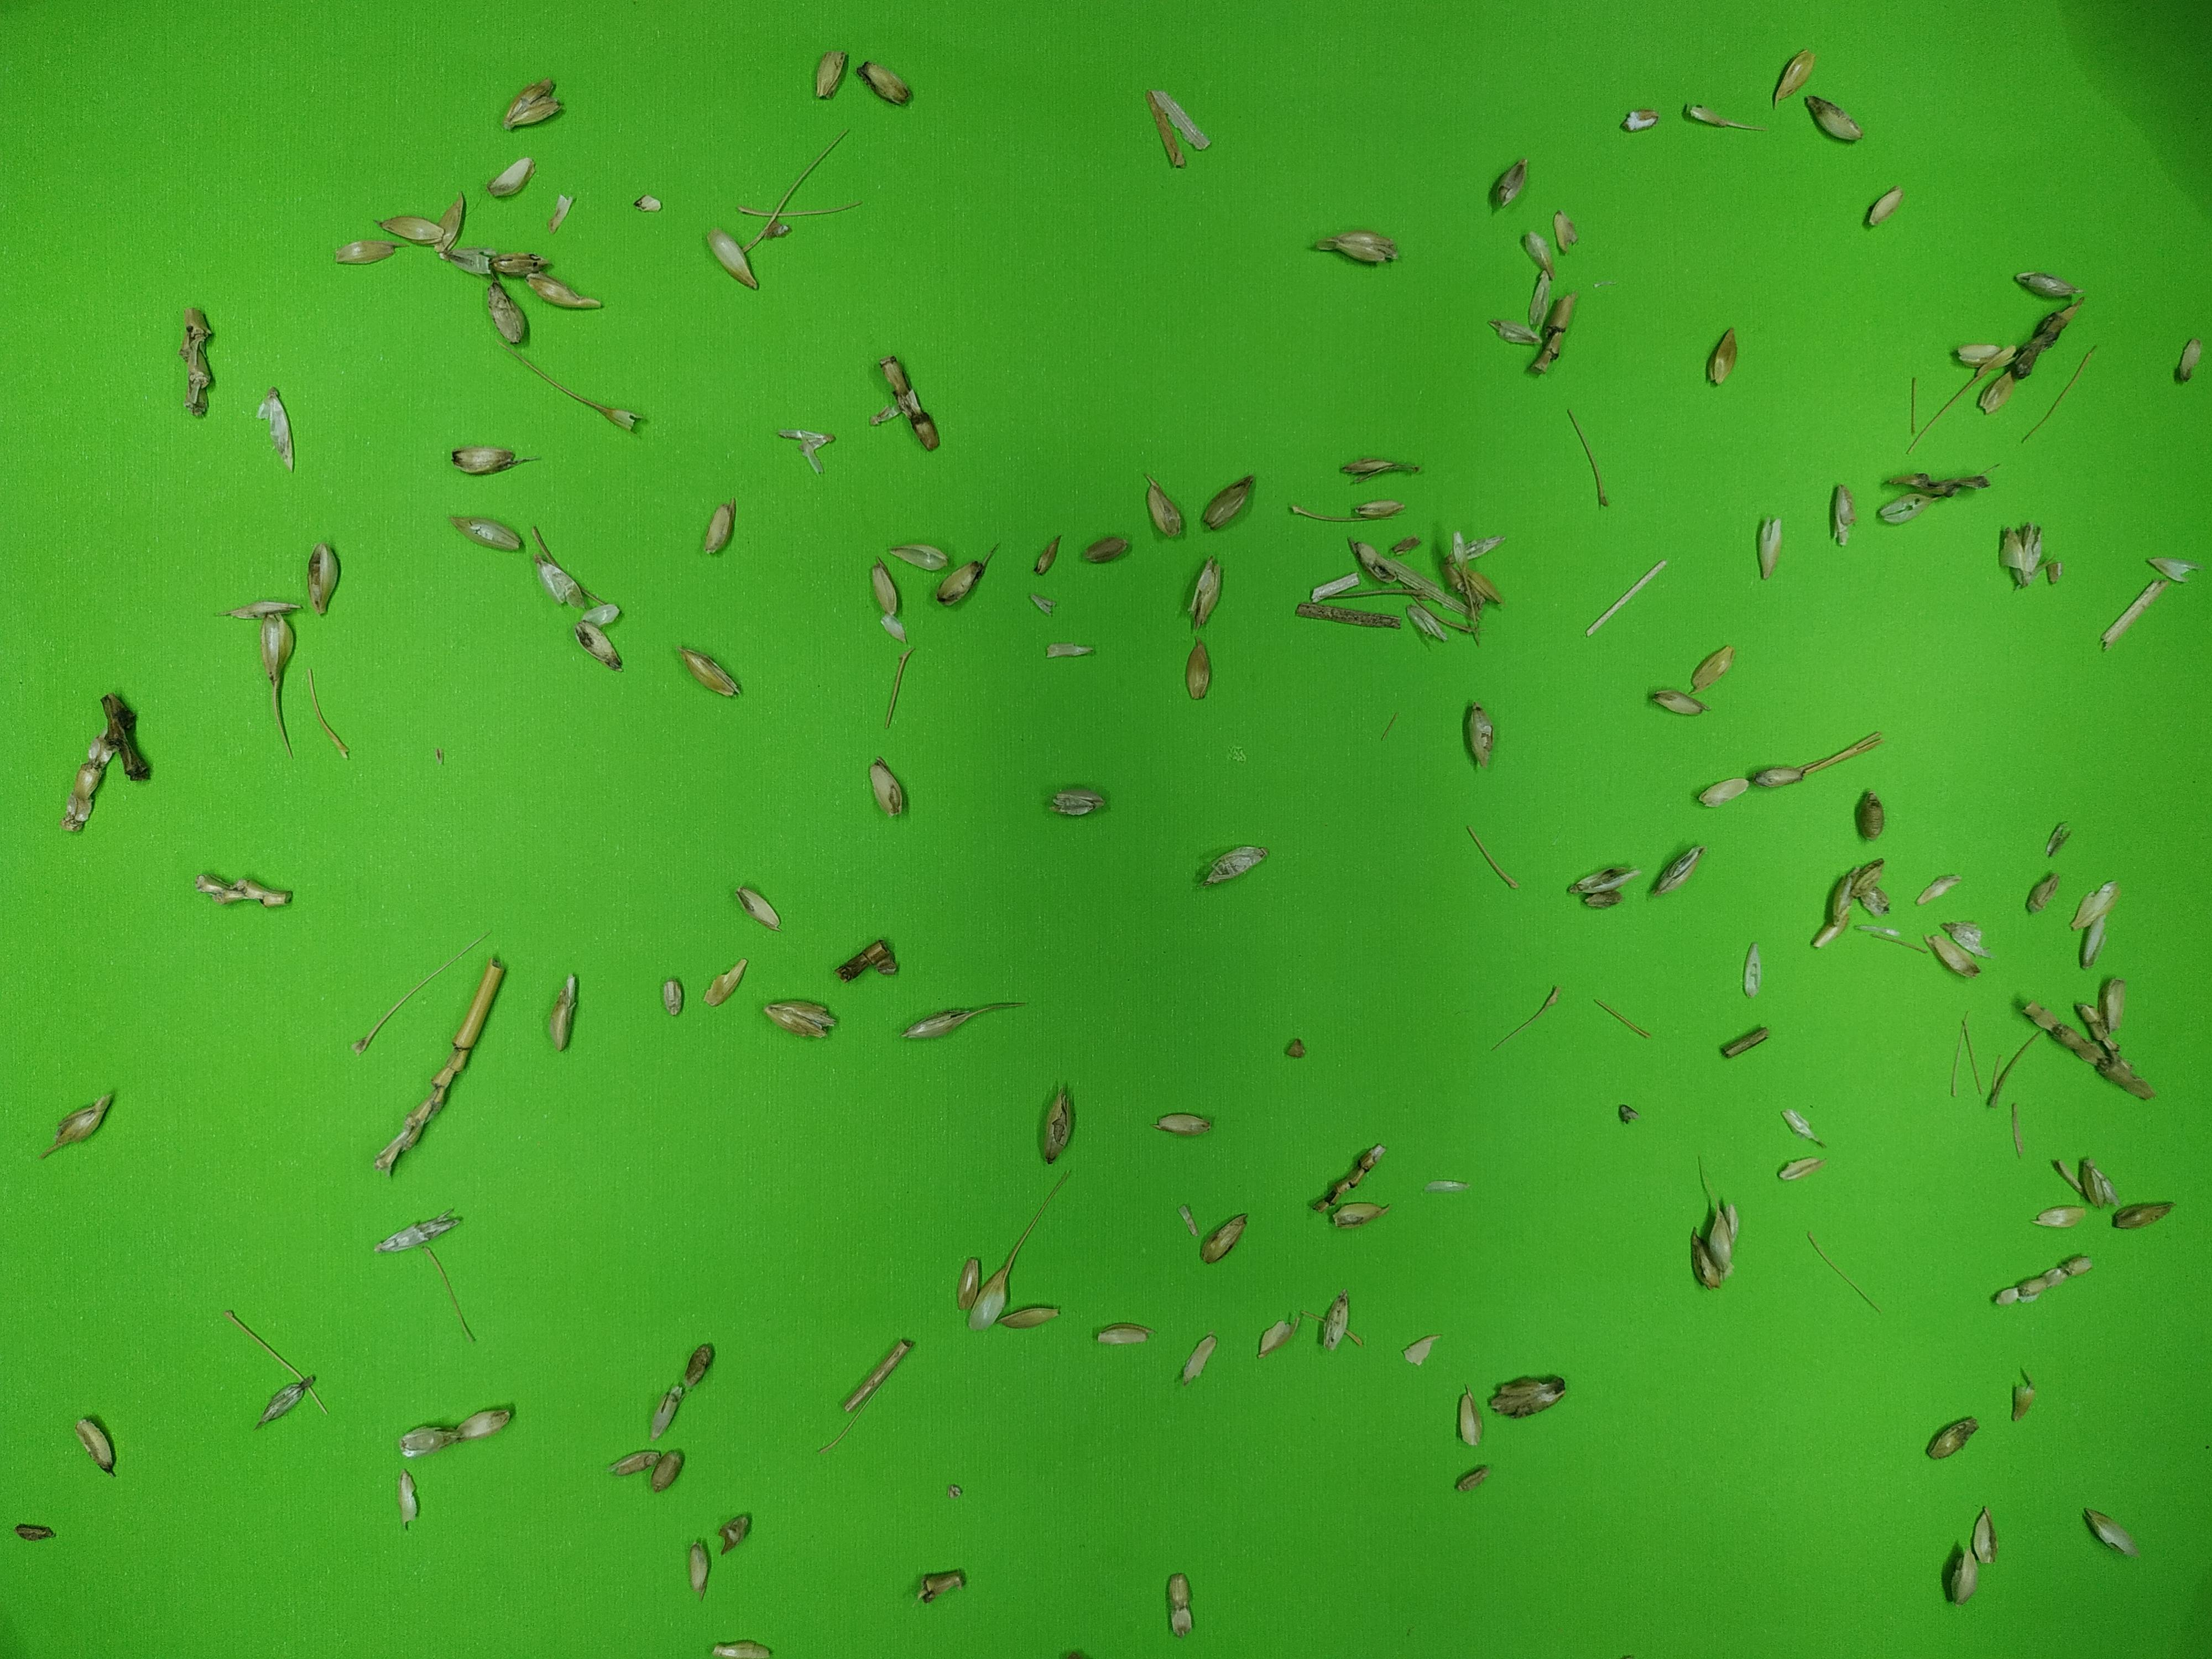bueno: (1141, 1349, 1157, 1351)
impureza: (374, 951, 516, 1178), (355, 929, 491, 1047), (2012, 993, 2158, 1098), (1973, 291, 2087, 415), (507, 350, 650, 443), (766, 122, 857, 230), (1810, 854, 1895, 953), (2026, 345, 2106, 441), (873, 352, 946, 457), (1003, 1166, 1071, 1276), (31, 1087, 124, 1166), (401, 1398, 523, 1457), (1585, 556, 1670, 640), (1801, 1230, 1883, 1316), (57, 732, 117, 840), (423, 1236, 484, 1340), (838, 1338, 918, 1417), (1987, 1253, 2099, 1309), (1454, 528, 1505, 647), (1312, 1141, 1392, 1213), (1693, 1194, 1750, 1291), (225, 1307, 301, 1378), (1909, 369, 1980, 446), (1146, 87, 1211, 171), (1493, 983, 1571, 1051), (897, 1002, 1033, 1040), (1982, 1026, 2043, 1110), (260, 610, 294, 753), (105, 690, 155, 788), (1195, 465, 1266, 533), (2101, 570, 2161, 648), (1305, 221, 1402, 270), (192, 870, 300, 913), (1566, 404, 1609, 511), (251, 380, 300, 474), (369, 1206, 470, 1251), (1533, 291, 1581, 383), (1193, 838, 1273, 894), (1801, 725, 1892, 774), (1036, 1070, 1082, 1166), (176, 300, 212, 418), (1888, 462, 2006, 498), (758, 995, 840, 1047), (500, 77, 568, 138), (1465, 819, 1519, 896), (704, 223, 763, 291), (256, 1370, 319, 1432), (312, 660, 352, 758), (1489, 1371, 1566, 1420), (1796, 92, 1867, 145), (2076, 1502, 2141, 1560), (543, 969, 587, 1053), (451, 242, 552, 277), (1289, 599, 1406, 629), (71, 1412, 122, 1480), (300, 533, 341, 615), (2003, 516, 2047, 594), (1916, 927, 1980, 979), (773, 429, 840, 479), (685, 641, 740, 701), (444, 509, 523, 551), (834, 939, 900, 988), (531, 551, 589, 606), (1649, 843, 1709, 897), (439, 444, 540, 476), (528, 268, 610, 307), (932, 556, 989, 610), (730, 884, 787, 938), (1951, 1007, 1986, 1096), (1139, 472, 1186, 537), (486, 281, 531, 347), (1336, 450, 1421, 484), (866, 751, 909, 819), (2069, 1150, 2116, 1213), (211, 591, 305, 622), (1683, 98, 1766, 132), (1926, 1410, 1982, 1462), (2074, 873, 2121, 934), (1198, 1209, 1252, 1262), (435, 185, 472, 261), (2005, 265, 2078, 303), (855, 58, 914, 105), (737, 197, 869, 218), (2111, 1199, 2186, 1236), (373, 209, 444, 247), (1040, 782, 1111, 821), (1851, 920, 1930, 955), (705, 953, 754, 1009), (1698, 326, 1740, 390), (1576, 857, 1641, 899), (1775, 47, 1820, 106), (1186, 558, 1223, 631), (648, 1378, 688, 1445), (883, 648, 914, 732), (1177, 1331, 1224, 1387), (967, 1270, 1008, 1333), (1757, 511, 1792, 586), (1588, 997, 1648, 1040), (570, 620, 620, 671), (1163, 1568, 1198, 1640), (1467, 697, 1501, 769), (1346, 537, 1395, 587), (1484, 157, 1534, 206), (1318, 1283, 1353, 1352), (1824, 483, 1858, 551), (1946, 1542, 1980, 1610), (1970, 1506, 2006, 1568), (1153, 1107, 1219, 1140), (888, 540, 954, 573), (2142, 549, 2205, 584), (867, 551, 899, 619), (1876, 491, 1937, 526), (812, 42, 846, 103), (1252, 1317, 1301, 1361), (907, 1570, 965, 1607), (1648, 685, 1710, 718), (1486, 312, 1540, 350), (1942, 915, 1991, 957), (1743, 763, 1808, 795), (1327, 1195, 1388, 1229), (704, 502, 738, 559), (1515, 230, 1559, 275), (1453, 1385, 1484, 1448), (493, 159, 535, 206), (1946, 342, 2012, 371), (2074, 918, 2113, 969), (331, 239, 404, 265), (1183, 643, 1216, 701), (2022, 870, 2064, 915), (1717, 1025, 1771, 1060), (683, 1541, 714, 1600), (1851, 791, 1886, 843), (1689, 648, 1735, 688), (390, 1473, 420, 1534), (1306, 570, 1360, 603), (646, 1445, 683, 1493), (712, 1513, 754, 1554), (1395, 1331, 1440, 1370), (679, 1342, 716, 1389), (1000, 1305, 1061, 1333), (953, 1256, 984, 1310), (2001, 1378, 2041, 1420), (2034, 1201, 2085, 1234), (1696, 777, 1747, 810), (1780, 1107, 1824, 1145), (2174, 336, 2205, 389), (1406, 599, 1444, 641), (1737, 938, 1763, 999), (1082, 533, 1130, 565), (655, 972, 690, 1016), (1352, 495, 1406, 523), (1912, 871, 1958, 904), (2006, 1098, 2031, 1159), (1282, 500, 1346, 523), (1092, 1321, 1148, 1347), (580, 601, 636, 627), (1620, 105, 1663, 138), (545, 190, 577, 235), (1775, 1154, 1820, 1185), (1547, 209, 1578, 254), (1864, 186, 1900, 225), (10, 1514, 52, 1547), (2099, 976, 2125, 1028), (1031, 538, 1062, 582), (1451, 1462, 1491, 1495), (606, 1450, 657, 1476), (1426, 1175, 1475, 1201), (629, 188, 667, 221), (2047, 819, 2076, 861), (1280, 1032, 1315, 1066), (1042, 638, 1089, 662), (1578, 885, 1622, 911), (1176, 1202, 1200, 1248), (1388, 526, 1418, 559), (1031, 591, 1061, 622), (880, 613, 907, 645), (1611, 1101, 1641, 1129), (2041, 552, 2066, 586)
